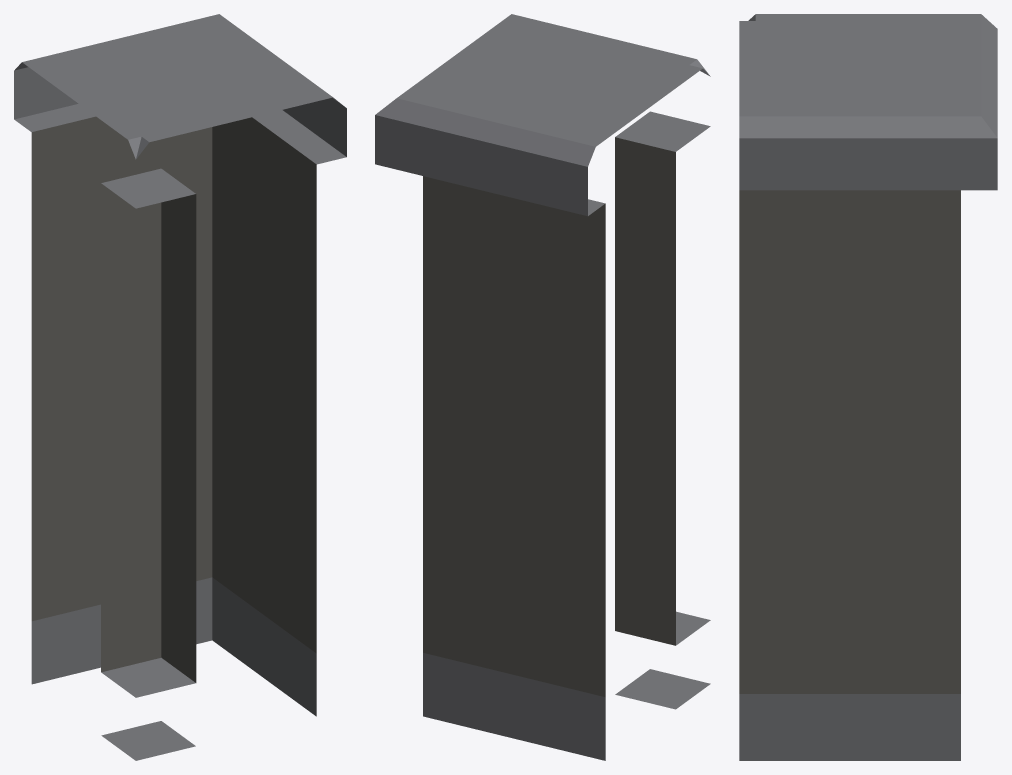
File: SM_Roof_Pillar_In.fbx
3 renders of one model, left to right at view 1: azimuth 30°, elevation 25°; view 2: azimuth 150°, elevation 25°; view 3: azimuth 270°, elevation 25°, orthographic. The views are drawn at different scales.
Visible parts, largest first — view 1: SM_Roof_Pillar_In; view 2: SM_Roof_Pillar_In; view 3: SM_Roof_Pillar_In.
Boxes of the visible parts, left/top/right/bottom form: SM_Roof_Pillar_In: left=14, top=14, right=346, bottom=760; SM_Roof_Pillar_In: left=375, top=14, right=710, bottom=760; SM_Roof_Pillar_In: left=739, top=14, right=997, bottom=760.
Bounding box in the file's own units: 35 × 97.55 × 35.
